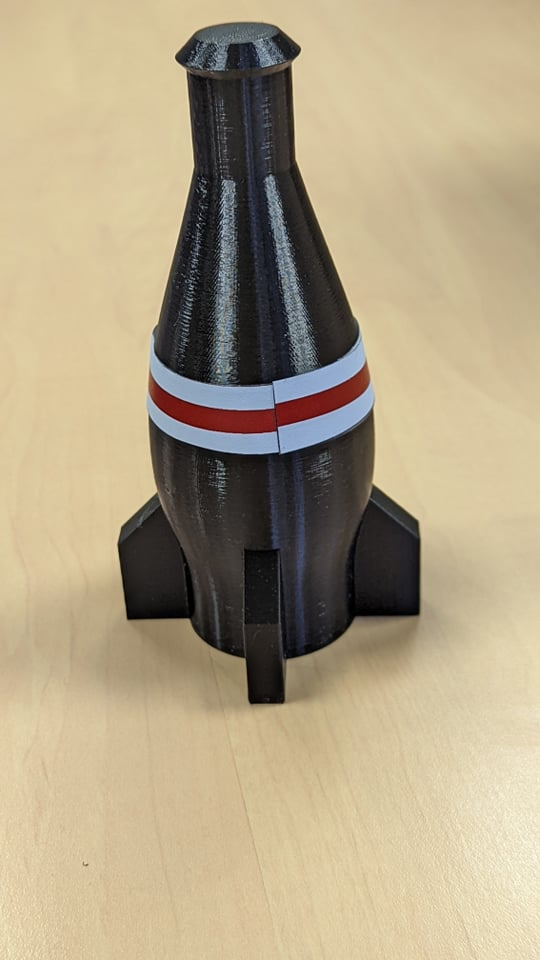bottle: (112, 12, 436, 725)
